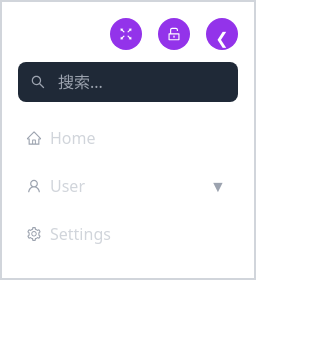
it: Sidebar Component › expands/collapses sub-items
Click the button "▼".
click(218, 186)  # box x1=206 y1=174 x2=230 y2=198
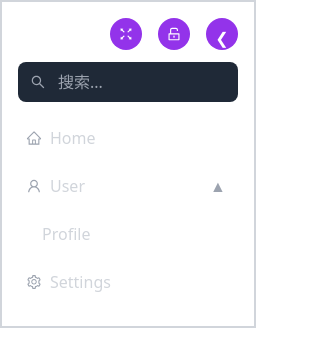
Result: the text "Profile" is shown at x1=42 y1=222 x2=90 y2=246
Click the button "▼".
click(218, 186)  # box x1=206 y1=174 x2=230 y2=198
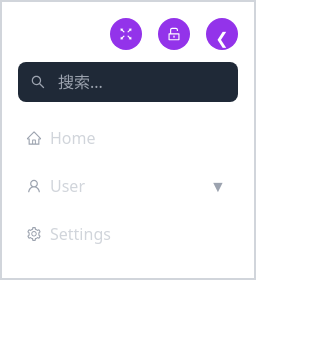
Result: the link "Profile" is gone
